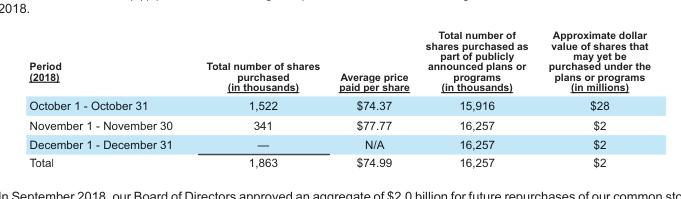table: (28, 28, 650, 168)
table column: (28, 28, 188, 168), (188, 28, 328, 168), (416, 28, 537, 168), (537, 28, 650, 168), (328, 28, 416, 168)
table column header: (28, 28, 650, 95)
table row: (28, 28, 650, 95), (28, 114, 650, 134), (28, 95, 650, 114), (28, 134, 650, 152), (28, 152, 650, 168)
